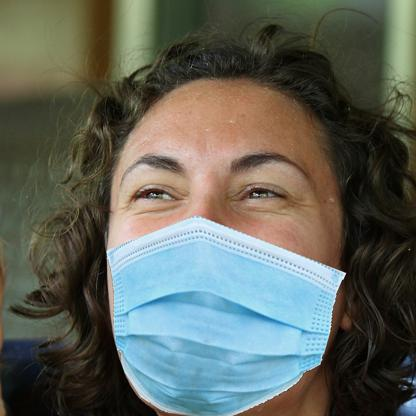mask: (107, 216, 346, 416)
